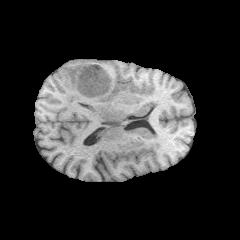glioma: (64, 65, 130, 106)
